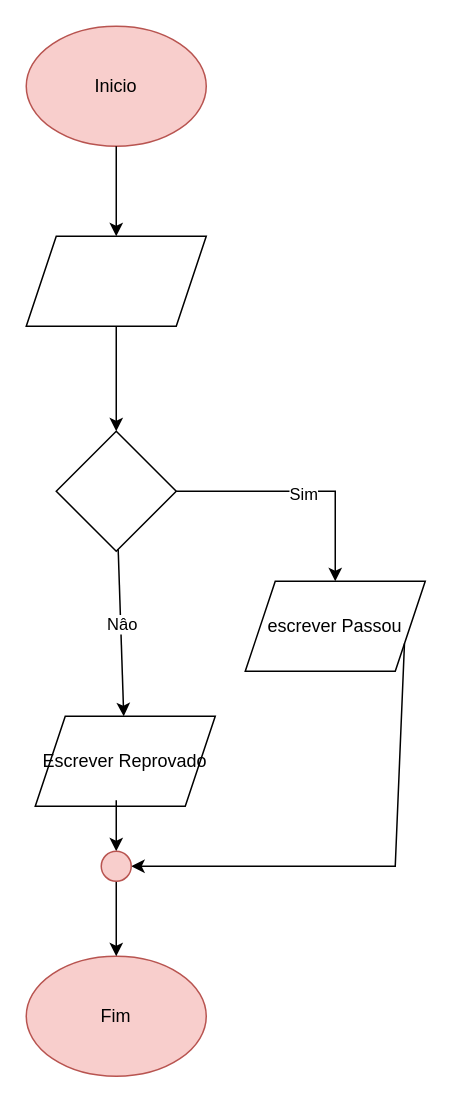
This 452x1103 diagram has some shape labels left out. The shapes that lost their labels are listed below. From the top down, each one's box as (x1, y1, x2, y2) in pixels, then its label:
(25, 235, 206, 326): ler nota
(55, 430, 176, 551): nota>9.5
